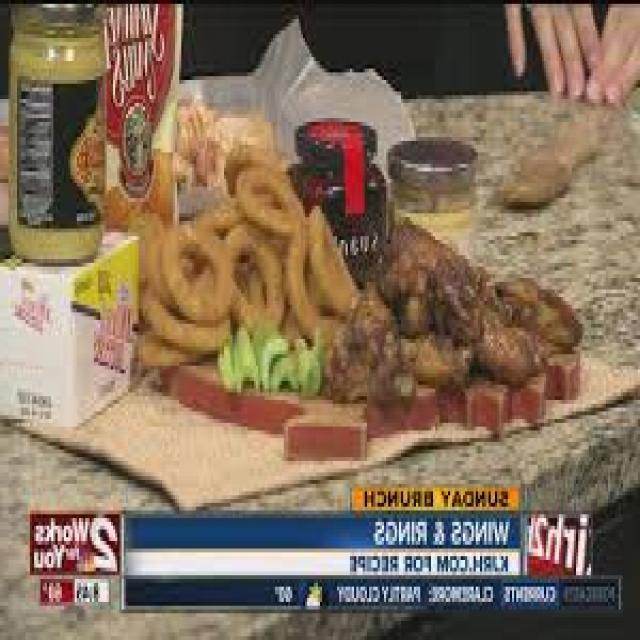Chicken Wings: (332, 225, 586, 442)
Onion Rings: (138, 164, 346, 400)
